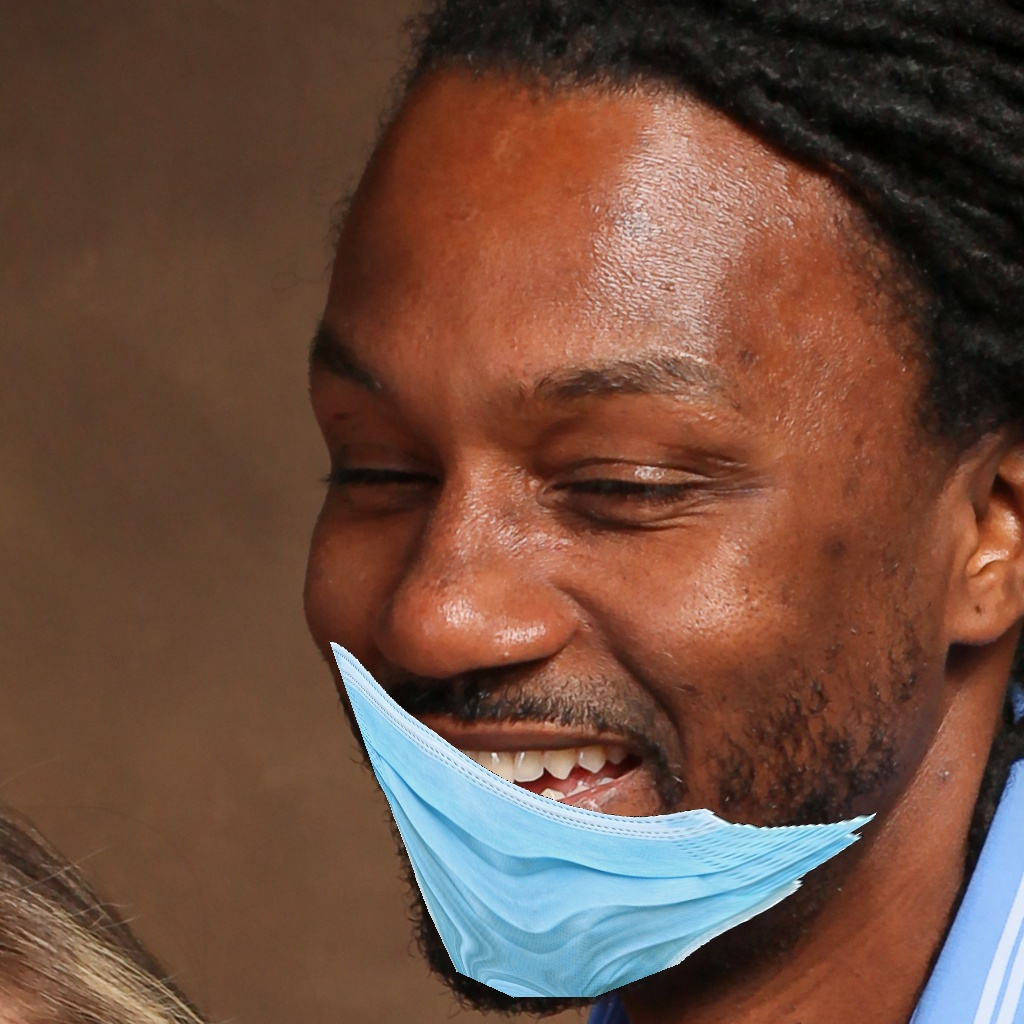mascarilla_mal_puesta: (257, 348, 949, 1008)
